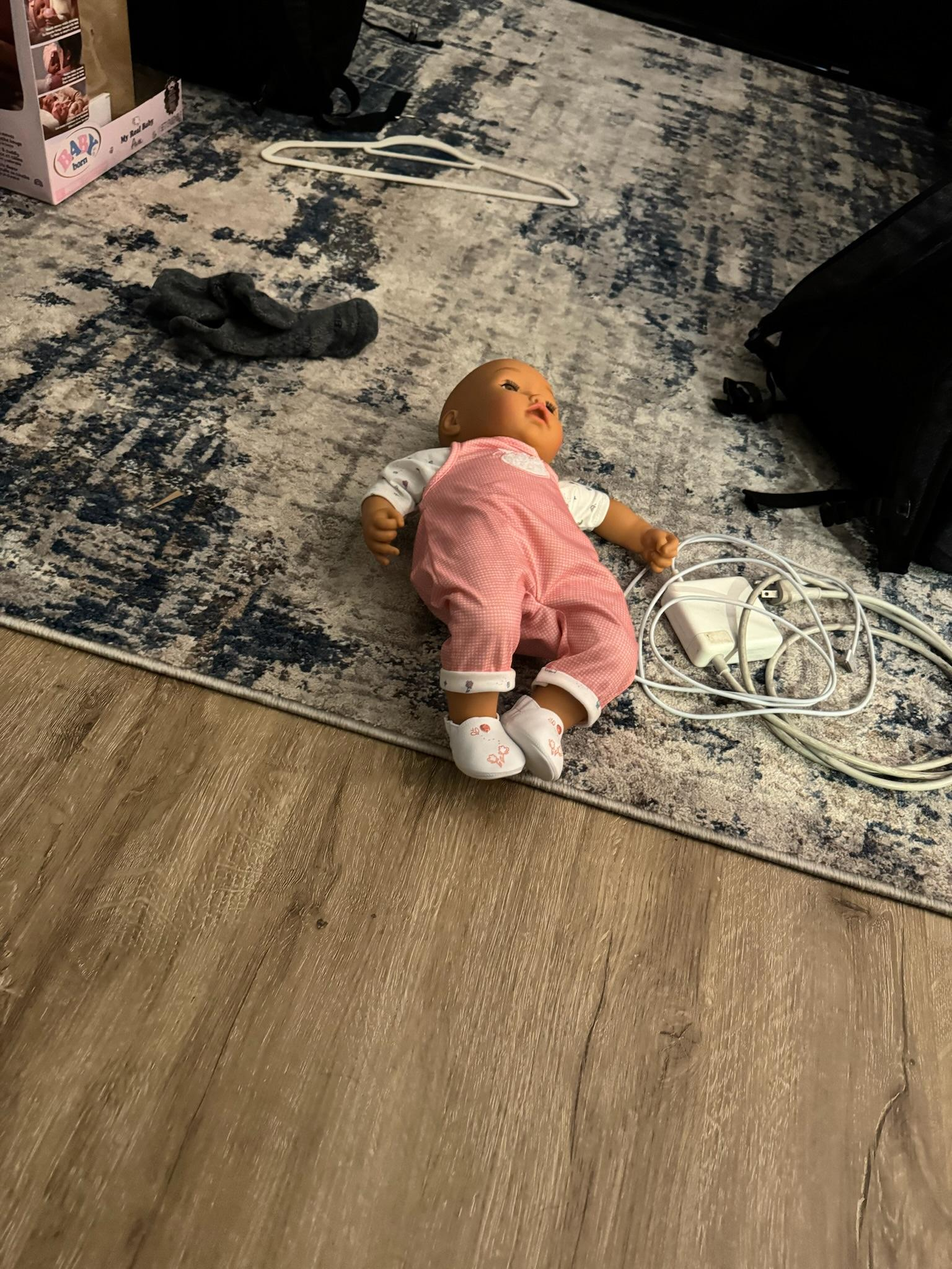baby: (357, 351, 651, 828)
